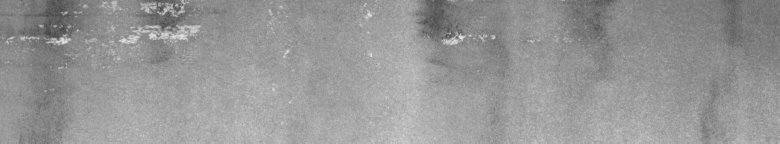hc: (5, 4, 201, 92)
